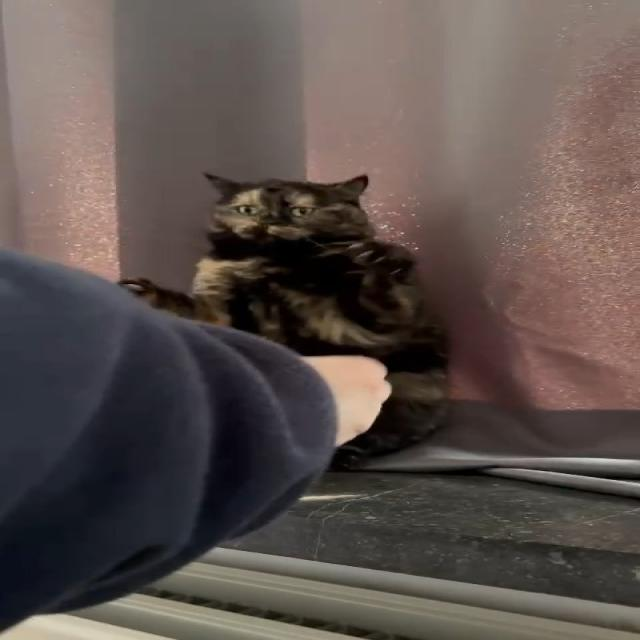authorized: (116, 171, 452, 470)
